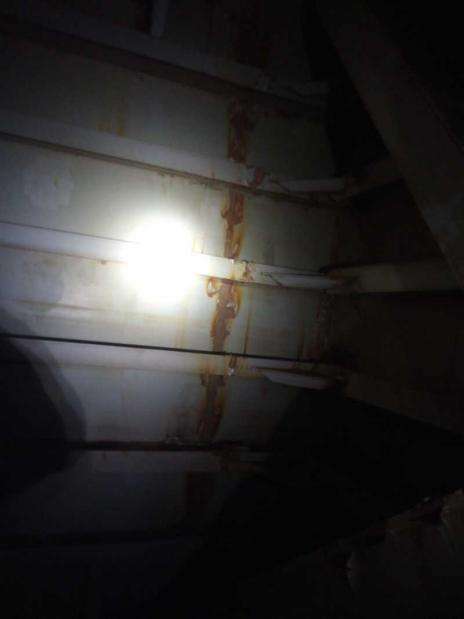corrosion: (210, 84, 259, 164), (194, 273, 244, 350), (182, 362, 224, 443), (213, 183, 248, 258), (241, 168, 269, 190), (217, 349, 241, 371), (234, 259, 257, 280)
